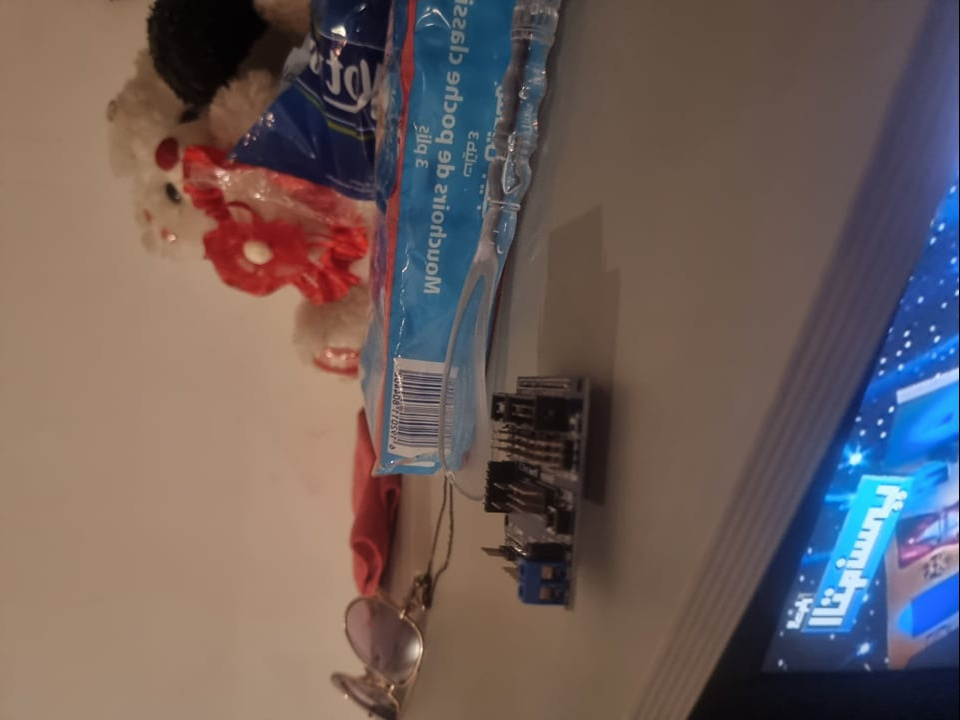5V EXPANSION: (475, 370, 618, 618)
